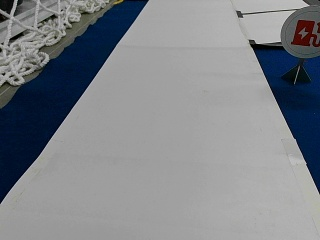battery: (281, 4, 320, 58)
